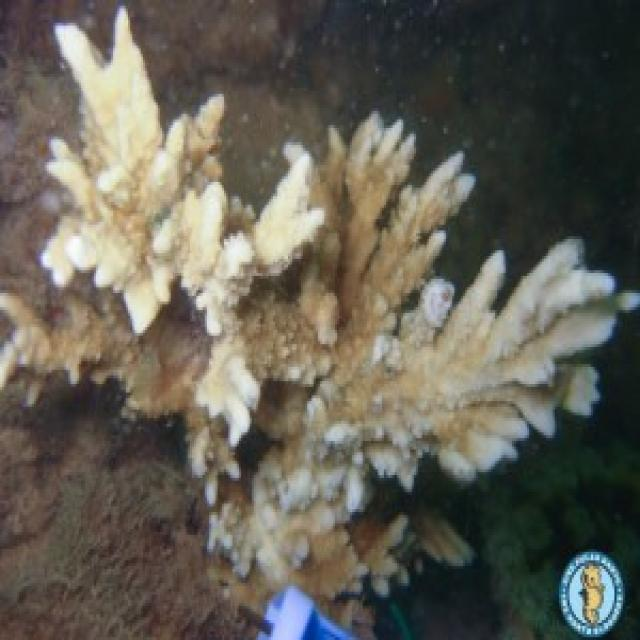Bleached: (210, 240, 639, 576), (44, 7, 225, 334), (327, 112, 466, 314), (197, 231, 259, 445), (248, 143, 325, 274)
